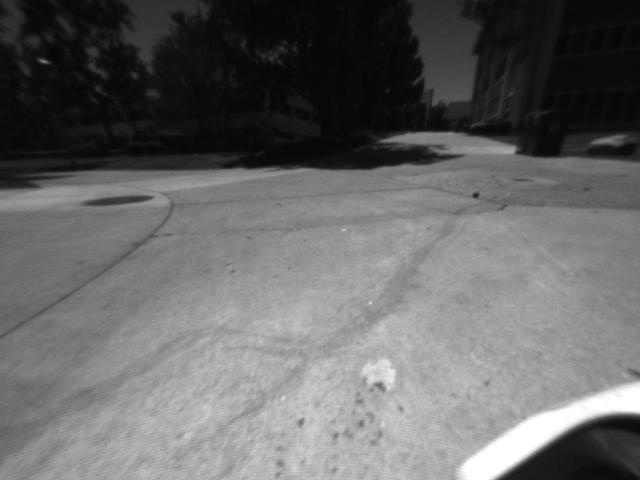dogtoy: (467, 183, 484, 200)
